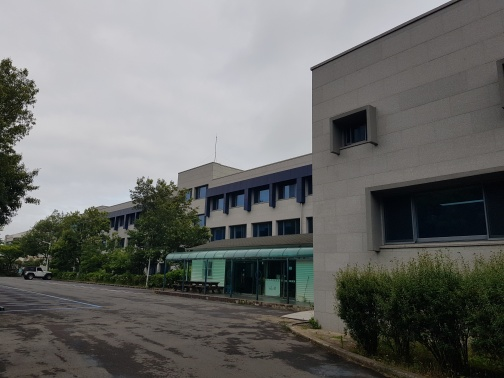College of Social Sciences: (78, 17, 504, 322), (144, 226, 343, 313), (201, 165, 309, 217)
